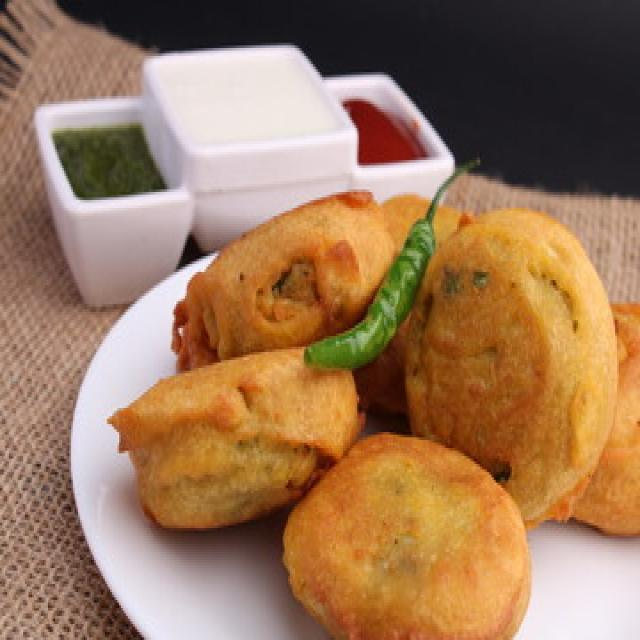BONDA: (115, 187, 638, 637)
CURD: (170, 59, 324, 140)
GREEN CHUTNEY: (50, 120, 169, 200)
SAUCE: (343, 99, 425, 163)
